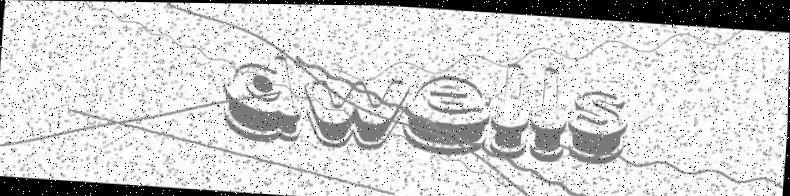d: (213, 45, 308, 141)
e: (400, 71, 497, 155)
l: (484, 61, 533, 155), (530, 60, 573, 156)
s: (565, 84, 631, 160)
w: (295, 71, 410, 150)
